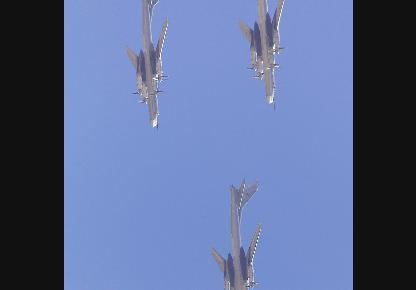Su57: (125, 0, 169, 133), (211, 174, 262, 287), (237, 0, 287, 111)
